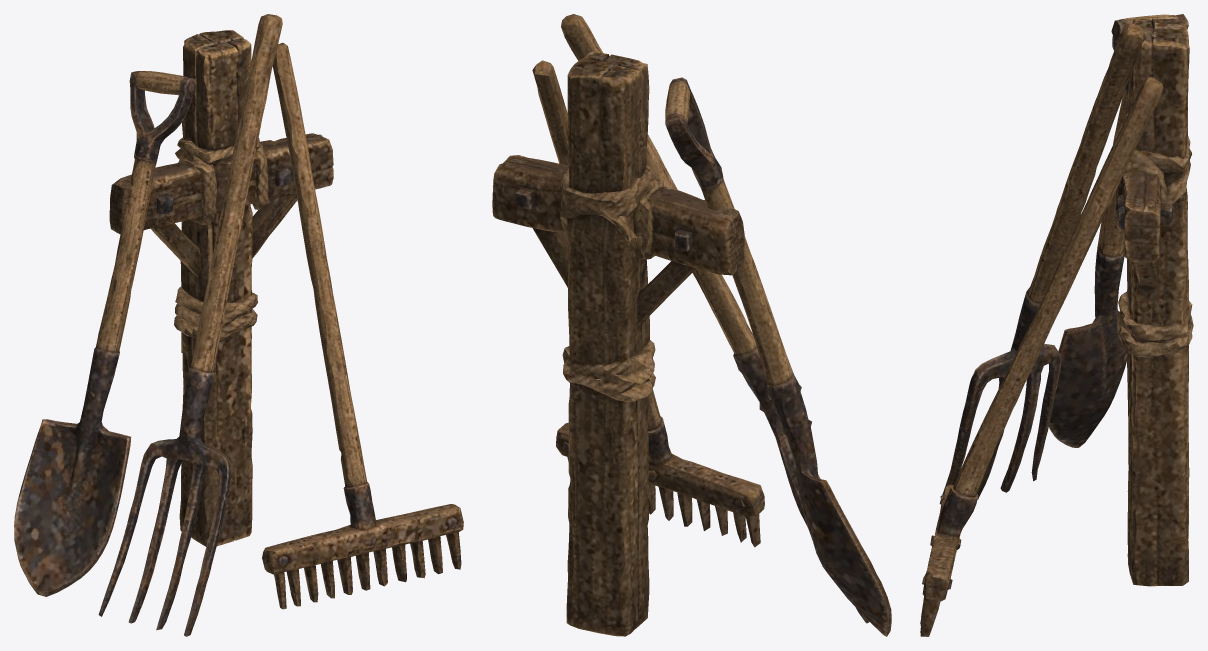
File: tools_lite.glb
3 renders of one model, left to right at view 1: azimuth 30°, elevation 25°; view 2: azimuth 150°, elevation 25°; view 3: azimuth 270°, elevation 25°, orthographic. The views are drawn at different scales.
Visible parts, largest first — view 1: geometry_0; view 2: geometry_0; view 3: geometry_0.
Part boxes in pixels (<box>): geometry_0: <box>14,14,463,636</box>; geometry_0: <box>492,14,891,636</box>; geometry_0: <box>920,14,1193,636</box>.
Bounding box in the file's own units: 1.41 × 1.91 × 0.8262.
1 material, 1 textured.
